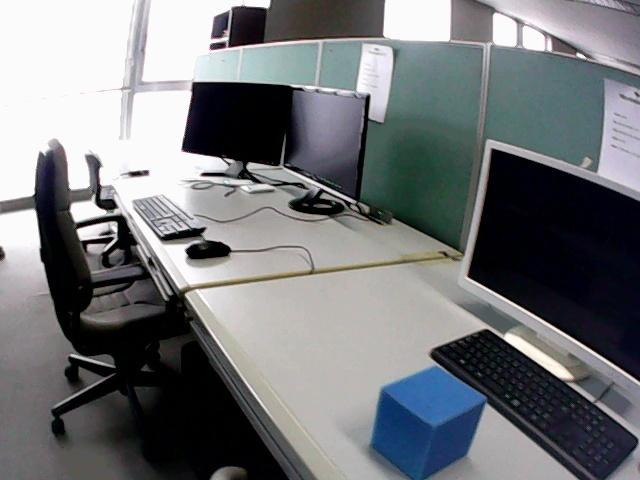blue_block: (371, 367, 485, 479)
